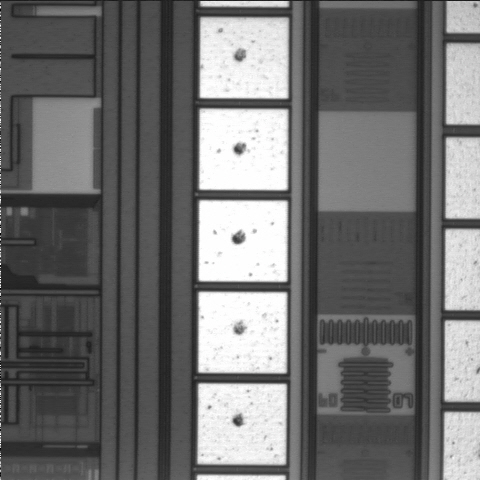pad: (199, 200, 288, 282), (198, 383, 287, 465), (199, 109, 288, 190), (198, 292, 287, 373), (200, 18, 288, 99)
